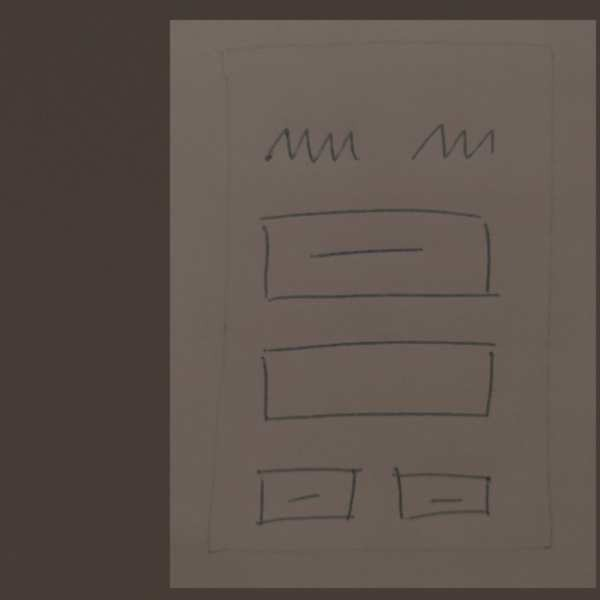button: (246, 205, 515, 316), (385, 460, 500, 529), (248, 462, 364, 529)
switch: (401, 112, 505, 172)
text: (258, 120, 369, 175)
text_input: (248, 335, 508, 433)
